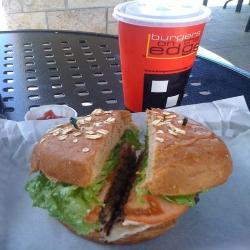burger: (26, 103, 233, 249)
